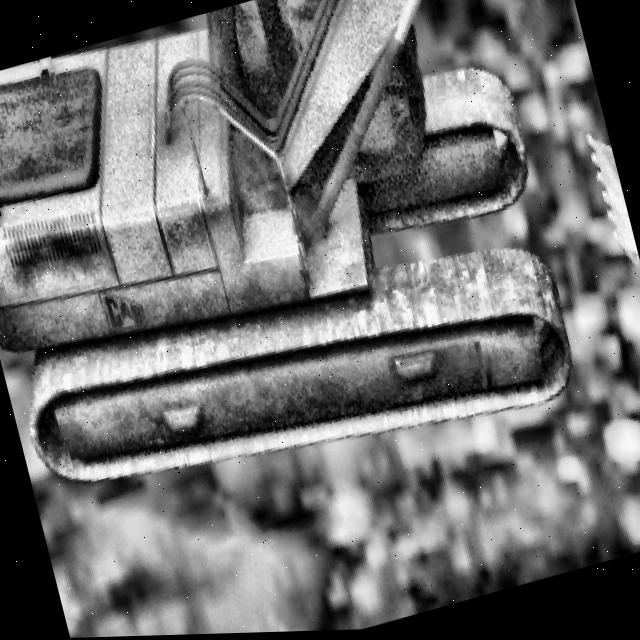excavator: (0, 0, 640, 539)
